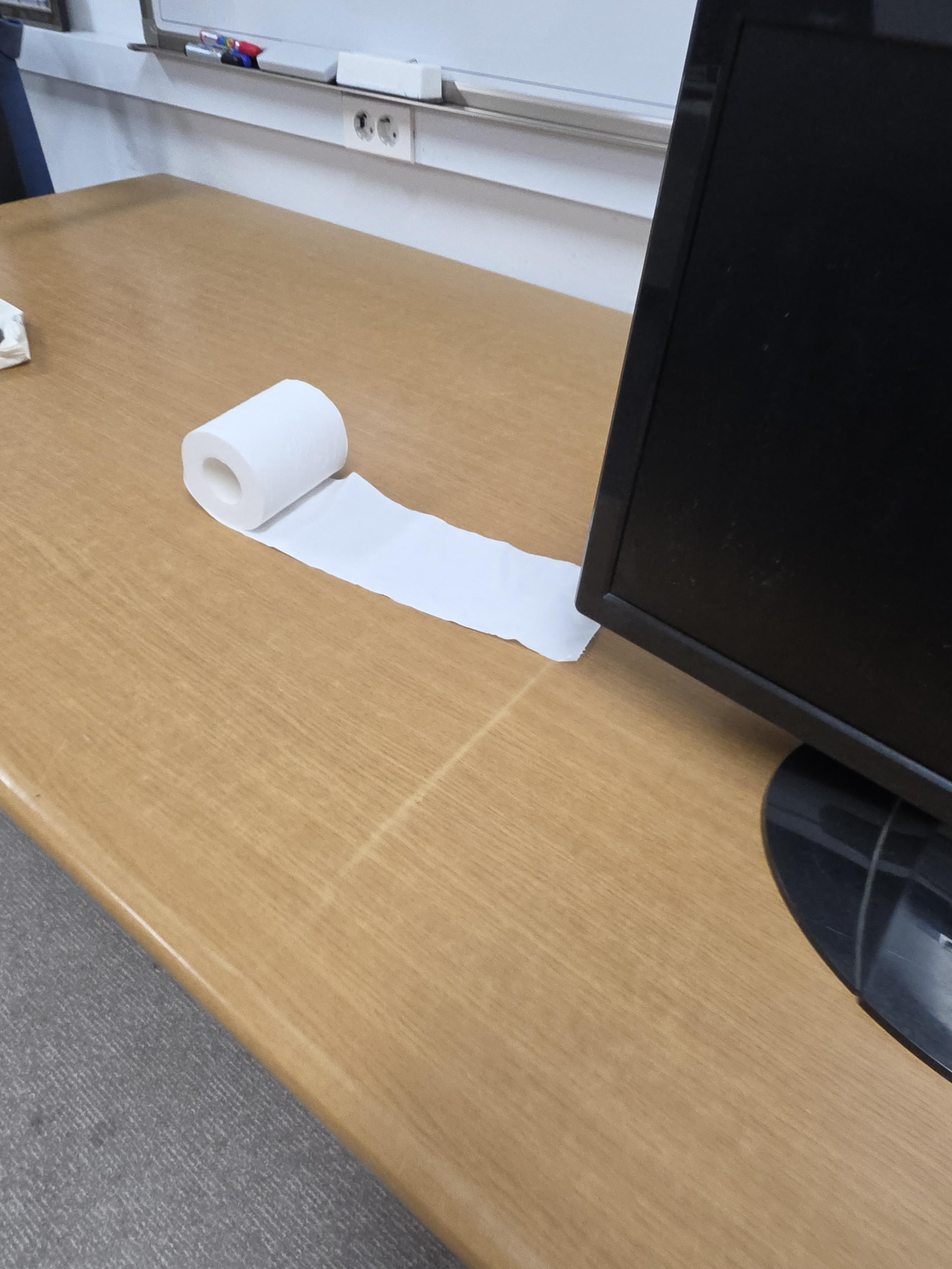tissue: (180, 379, 601, 662)
